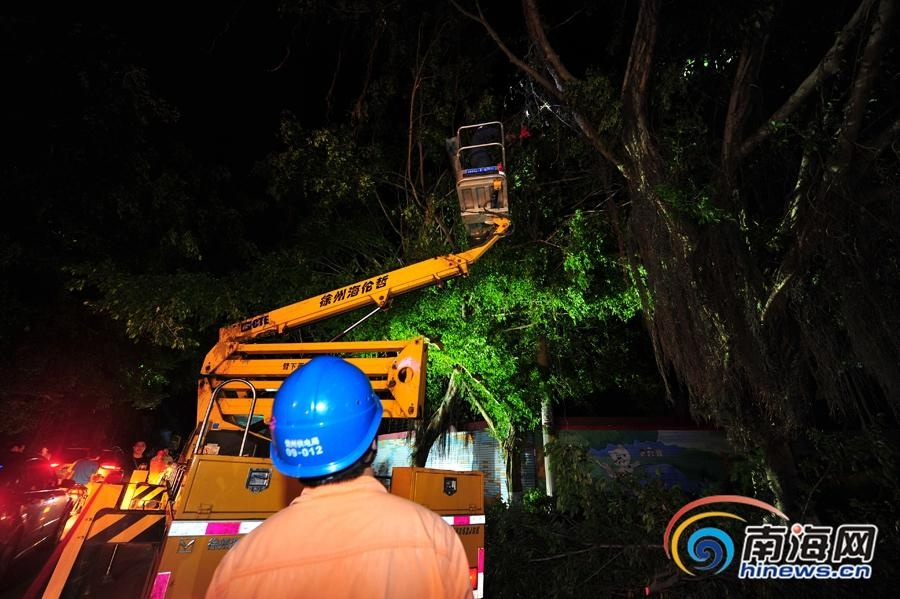blue: (259, 353, 387, 490)
